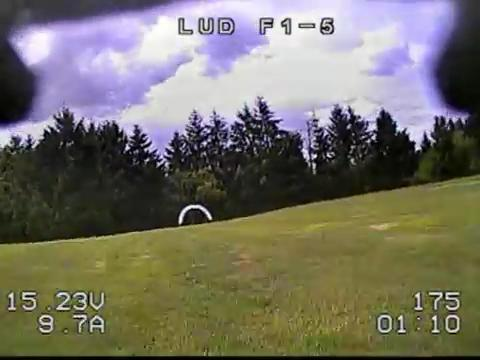gate: (178, 204, 212, 224)
